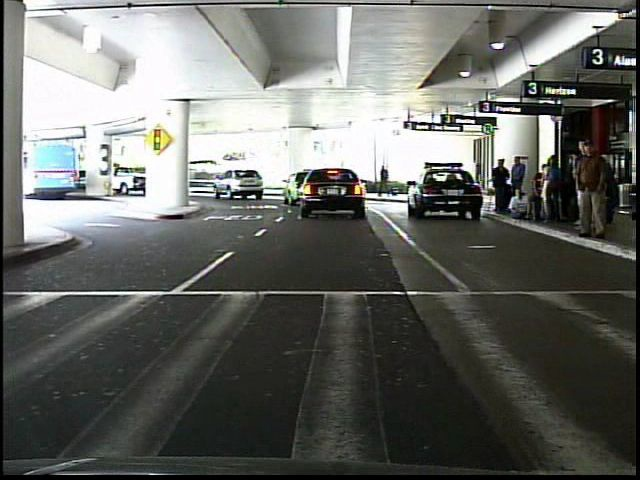person: (573, 136, 612, 243), (489, 157, 511, 214), (507, 153, 530, 194), (378, 163, 392, 198)
